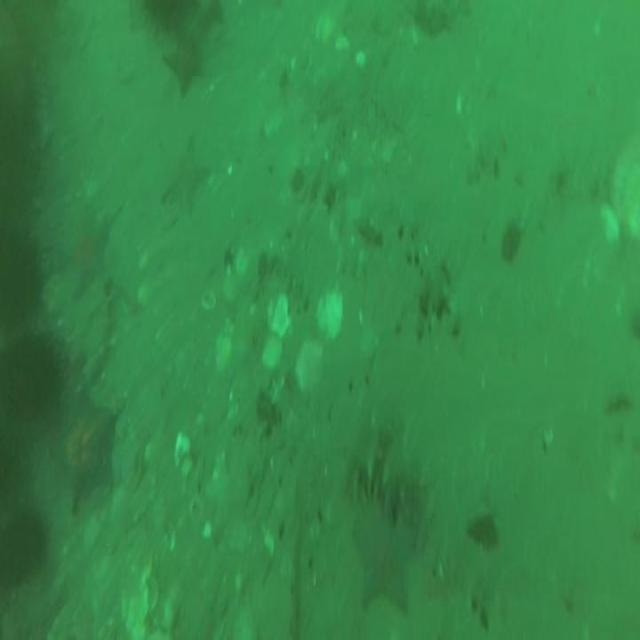echinus: (2, 328, 60, 418), (4, 503, 46, 591), (2, 228, 39, 327)
holothurian: (353, 420, 436, 532)
scallop: (298, 339, 322, 396), (317, 294, 344, 343)
starfish: (49, 393, 115, 517), (357, 534, 412, 610), (159, 131, 208, 209), (68, 207, 109, 297), (164, 33, 204, 95)
